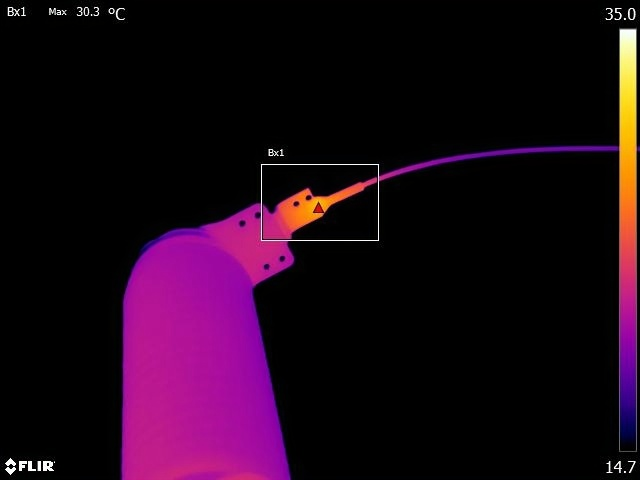circuit breaker: (96, 169, 340, 480)
